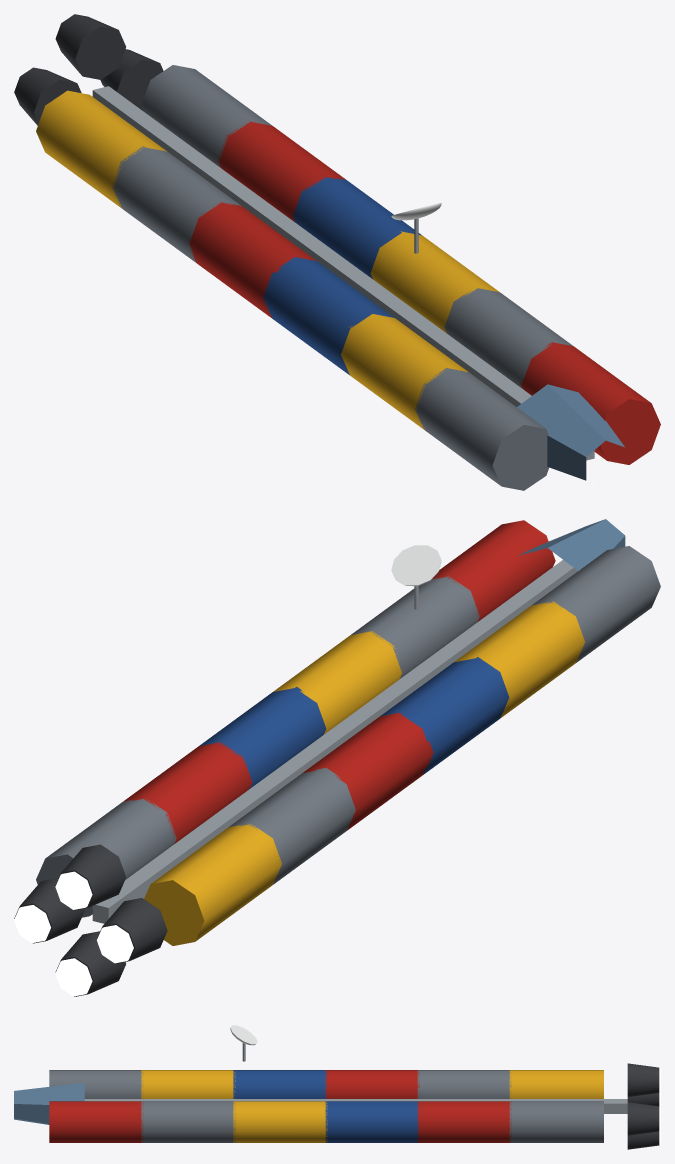
File: space_ship_logistics_mk6.glb
The picture shows the model from 3 angles, top to bottom: view 1: azimuth 30°, elevation 25°; view 2: azimuth 150°, elevation 25°; view 3: azimuth 270°, elevation 25°; orthographic projection. The views are drawn at different scales.
Visible parts, largest first — view 1: body, pod_5_0, pod_3_0, pod_5_1, pod_0_0, pod_1_0, pod_4_0, pod_2_0, pod_0_1, pod_4_1, pod_2_1, pod_1_1 (+4 smaller); view 2: body, pod_0_0, pod_3_0, pod_2_0, pod_4_0, pod_5_0, pod_1_0, pod_1_1, pod_3_1, pod_4_1, pod_5_1, pod_2_1 (+6 smaller); view 3: pod_0_1, pod_3_1, pod_4_1, pod_2_1, pod_1_1, pod_5_1, body, pod_0_0, pod_3_0, pod_2_0, pod_4_0, pod_1_0 (+6 smaller).
Part boxes in pixels (<box>): body: <box>92,86,624,480</box>; pod_5_0: <box>415,368,549,490</box>; pod_3_0: <box>263,257,394,375</box>; pod_5_1: <box>520,342,660,464</box>; pod_0_0: <box>36,90,166,208</box>; pod_1_0: <box>112,146,242,262</box>; pod_4_0: <box>341,314,469,430</box>; pod_2_0: <box>188,201,316,318</box>; pod_0_1: <box>141,65,272,168</box>; pod_4_1: <box>444,288,573,389</box>; pod_2_1: <box>293,176,421,278</box>; pod_1_1: <box>217,121,345,222</box>; body: <box>92,519,625,923</box>; pod_0_0: <box>144,823,281,945</box>; pod_3_0: <box>380,657,509,774</box>; pod_2_0: <box>302,712,433,830</box>; pod_4_0: <box>454,601,584,718</box>; pod_5_0: <box>532,546,660,662</box>; pod_1_0: <box>229,768,355,884</box>; pod_1_1: <box>123,742,252,843</box>; pod_3_1: <box>273,631,401,734</box>; pod_4_1: <box>350,575,479,678</box>; pod_5_1: <box>432,520,555,621</box>; pod_2_1: <box>199,686,326,789</box>; pod_0_1: <box>509,1101,603,1142</box>; pod_3_1: <box>233,1101,327,1142</box>; pod_4_1: <box>141,1101,235,1142</box>; pod_2_1: <box>325,1101,419,1142</box>; pod_1_1: <box>417,1101,511,1142</box>; pod_5_1: <box>49,1101,143,1142</box>; body: <box>14,1082,627,1124</box>; pod_0_0: <box>509,1070,603,1098</box>; pod_3_0: <box>233,1070,327,1098</box>; pod_2_0: <box>325,1070,419,1098</box>; pod_4_0: <box>141,1070,235,1098</box>; pod_1_0: <box>417,1070,511,1098</box>.
Size of what is drawn, in the model's own units: 8.33 by 9.45 by 45.62.
